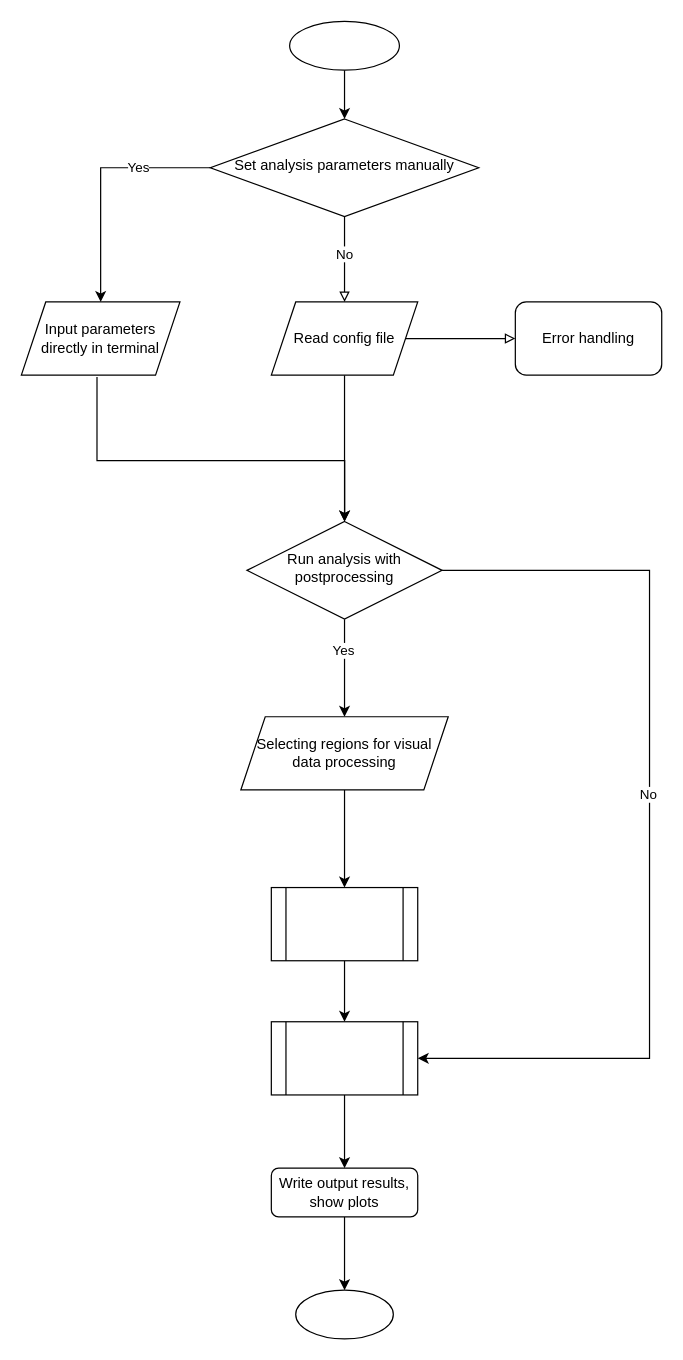
Image size: 683x1360. Some labels were removed from this diagram. The centre of each missing label's shape, as x and y in pixels:
"Postprocessing" belongs at (x=344, y=1058).
"Running analysis" belongs at (x=344, y=923).
"Start" belongs at (x=343, y=45).
"Stop" belongs at (x=344, y=1314).
